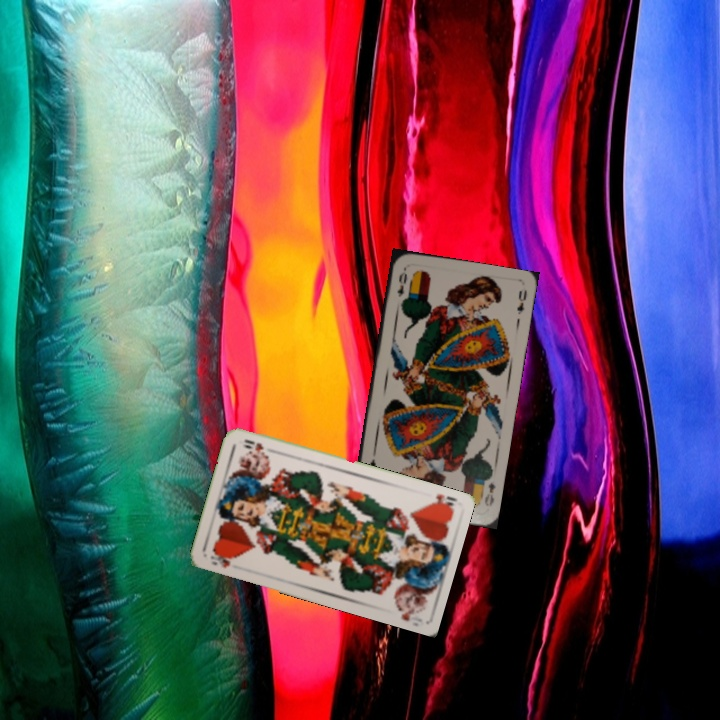EO: (393, 265, 410, 299), (480, 478, 498, 509)
HO: (424, 490, 459, 513), (206, 548, 235, 570)
